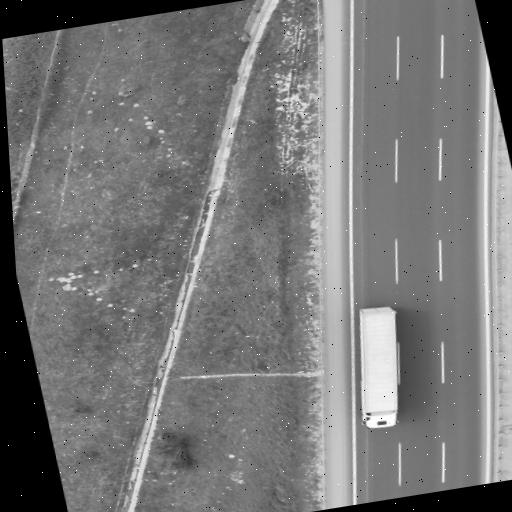truck: (360, 306, 399, 427)
